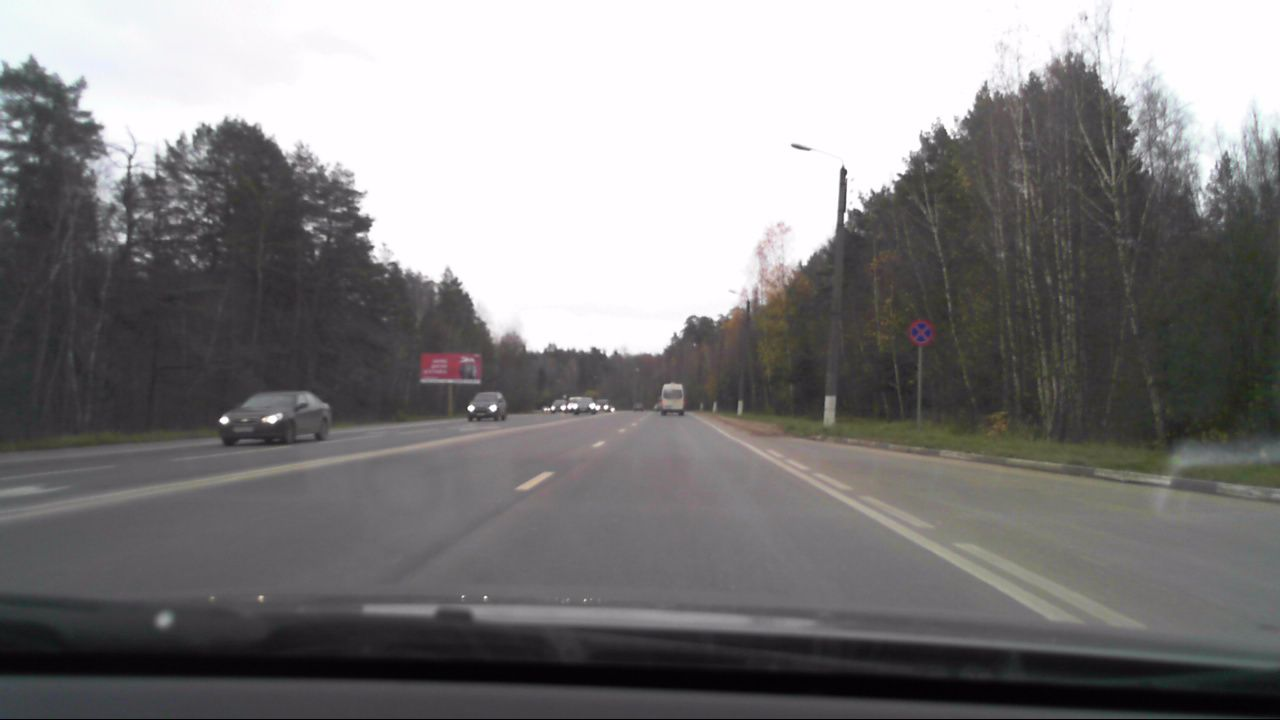No Parking: (906, 319, 933, 345)
